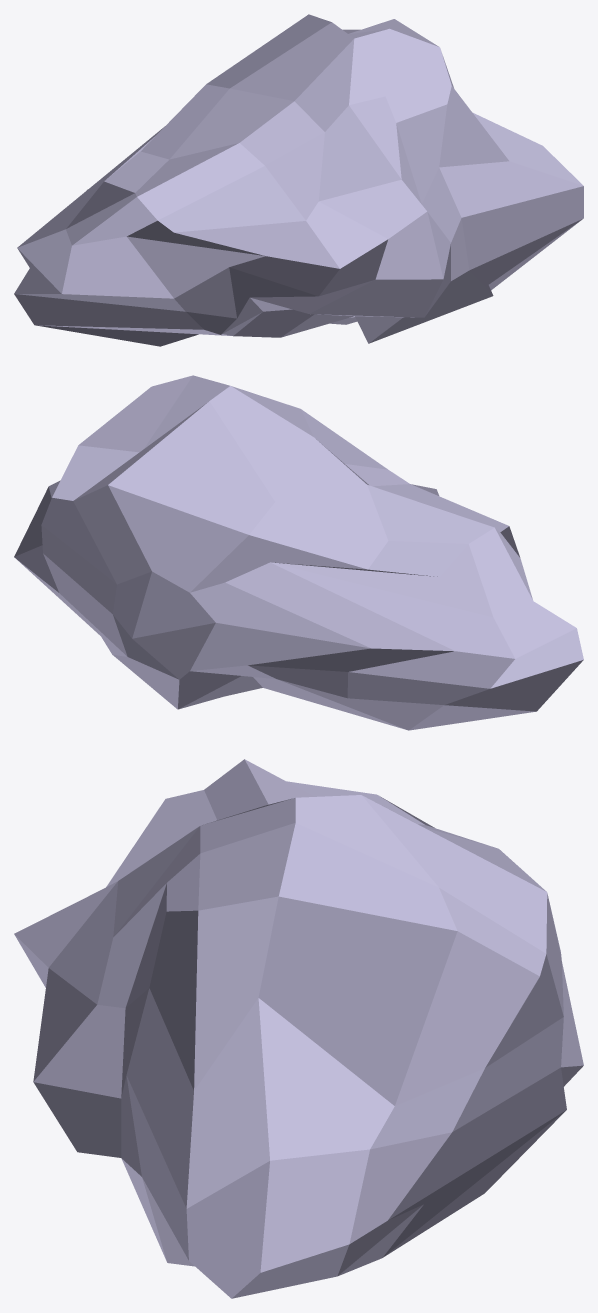
Rendered from cloud.gltf.
3 views of the same model, one above another, from view 1: azimuth 30°, elevation 25°; view 2: azimuth 150°, elevation 25°; view 3: azimuth 270°, elevation 25° (orthographic). The views are drawn at different scales.
Visible parts, largest first — view 1: Cube; view 2: Cube; view 3: Cube.
Boxes of the visible parts, x1,y1,x2,y2 form: Cube: (14,14,583,346); Cube: (14,375,583,730); Cube: (14,759,583,1298).
Bounding box in the file's own units: 3.4 × 1.73 × 2.03.
